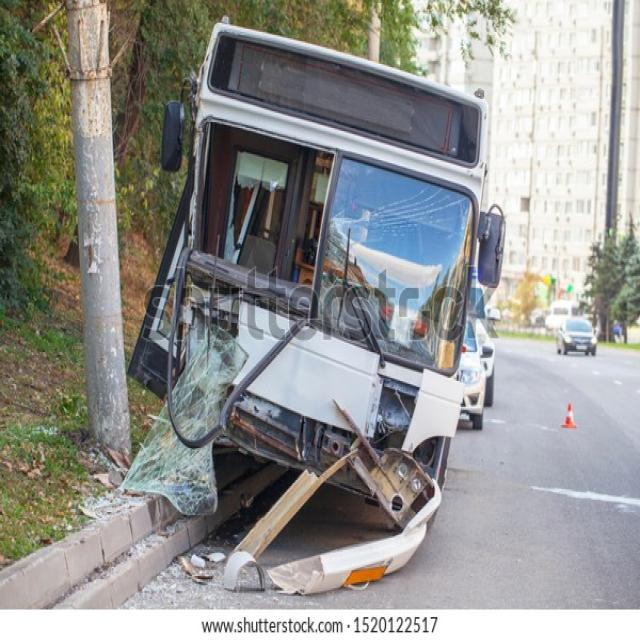Accident: (123, 13, 508, 598)
